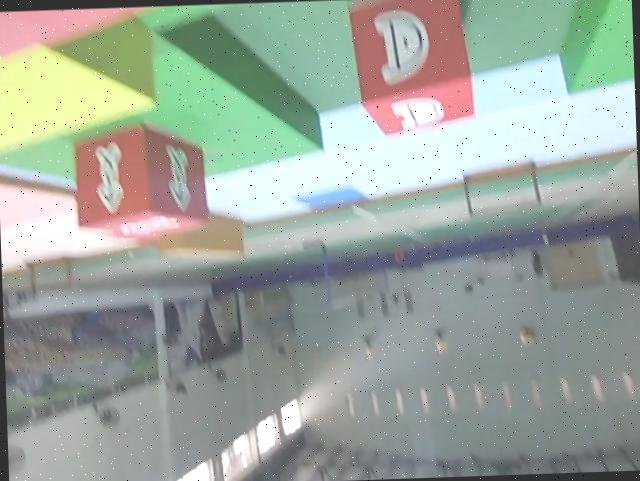R2 Real: (342, 0, 474, 139), (73, 122, 209, 239)
